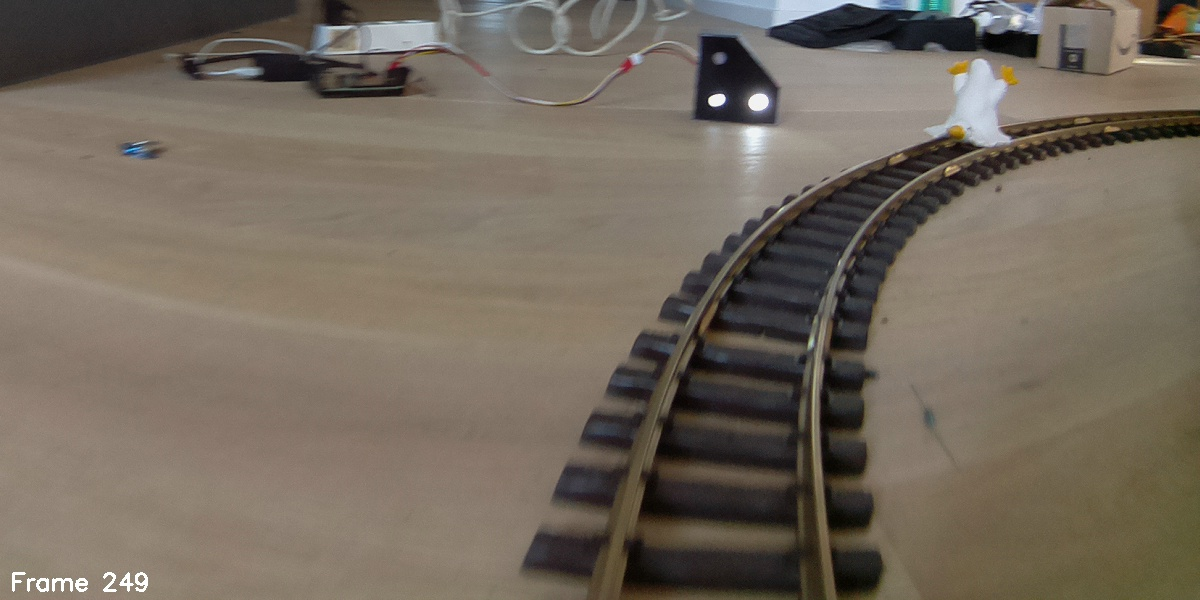Ente: (921, 54, 1019, 152)
Halt: (692, 34, 779, 124)
